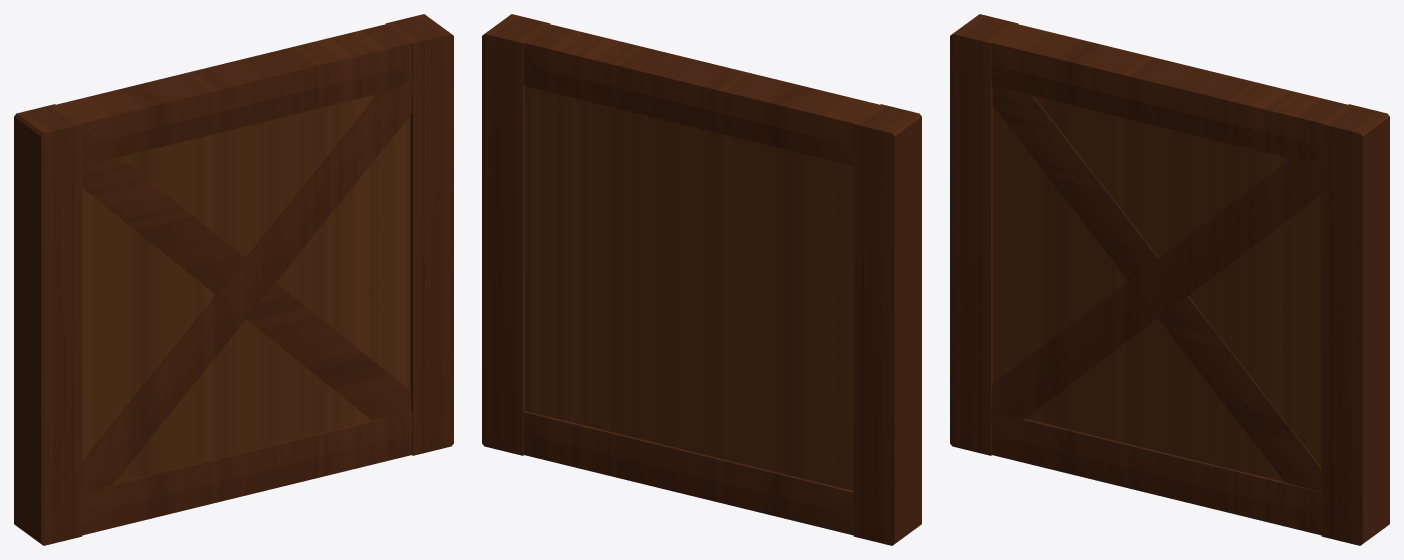
The model's file is Wall_X_Wood.fbx.
3 views of the same model, side by side, from view 1: azimuth 30°, elevation 25°; view 2: azimuth 150°, elevation 25°; view 3: azimuth 330°, elevation 25° (orthographic).
Visible parts, largest first — view 1: Wall_X_Wood; view 2: Wall_X_Wood; view 3: Wall_X_Wood.
Boxes of the visible parts, x1=… form: Wall_X_Wood: x1=14, y1=14, x2=453, y2=545; Wall_X_Wood: x1=482, y1=14, x2=921, y2=545; Wall_X_Wood: x1=950, y1=14, x2=1389, y2=545.
Bounding box in the file's own units: 212 × 202 × 26.17.
